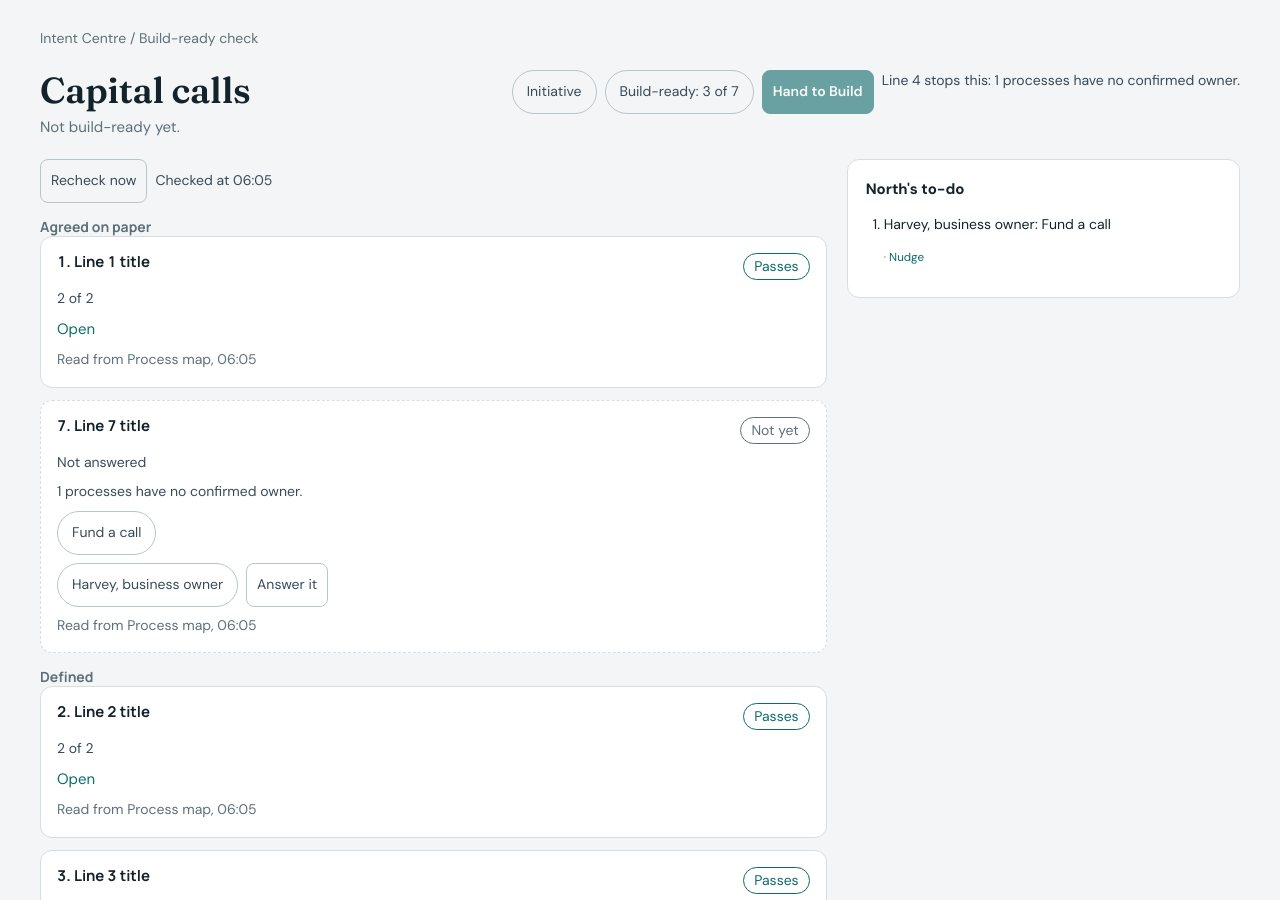
Test: build-ready check › Nudge posts for the row and shows the draft when it was not sent
The width and height of the screenshot is (1280, 900).
Click the button "Nudge".
click(907, 257)  # box x1=889 y1=235 x2=924 y2=279
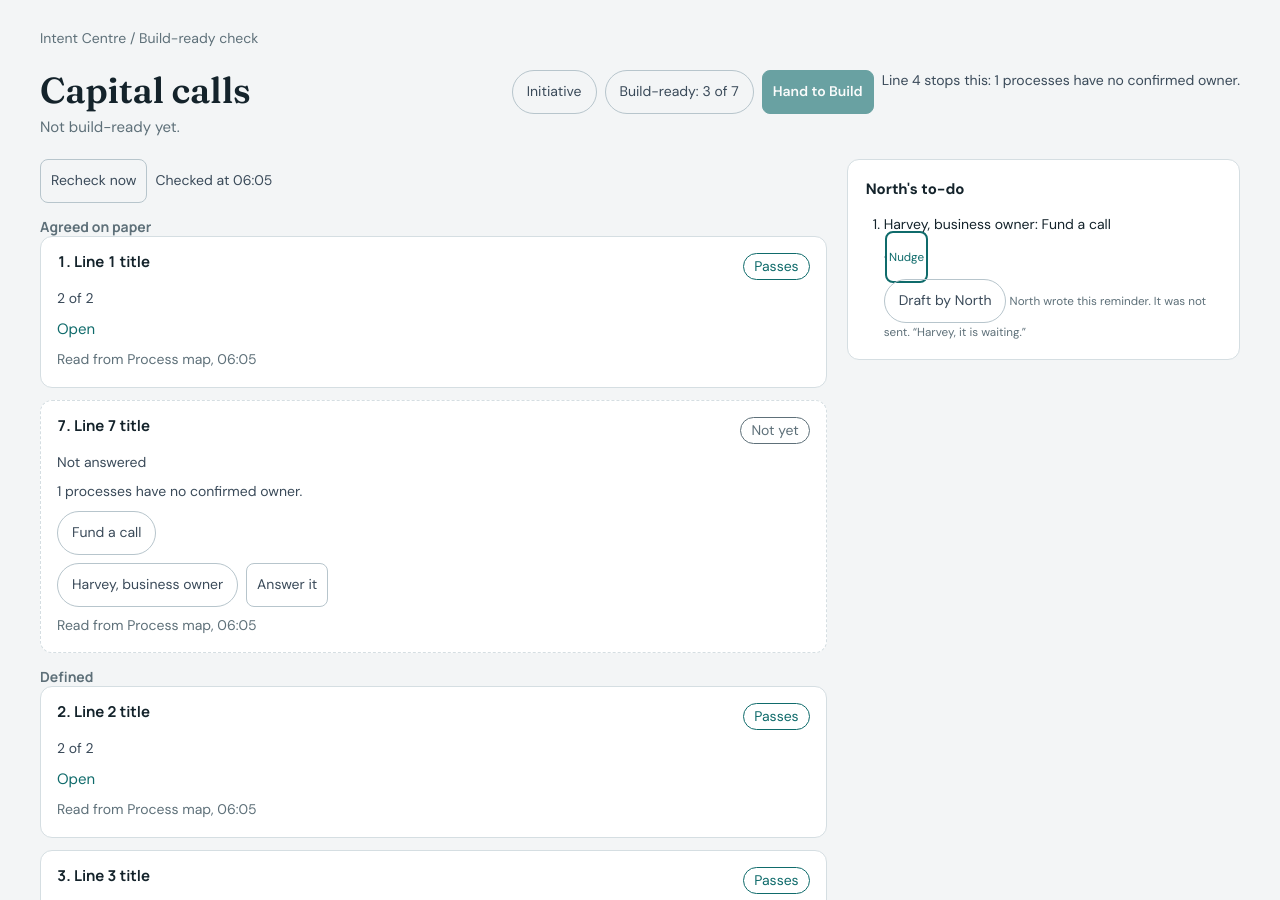
Check: the text "It was not sent. .Harvey, it is waiting." is shown, box x1=884 y1=279 x2=1221 y2=341
Check: the text "Draft by North" is shown, box x1=884 y1=279 x2=1006 y2=323
